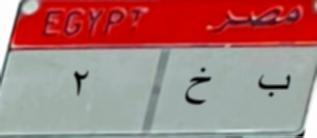2: (62, 66, 103, 100)
baa: (254, 68, 295, 101)
khaa: (179, 65, 217, 111)
